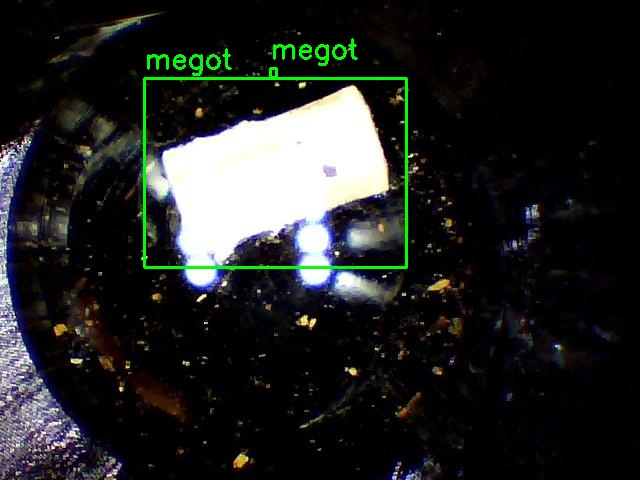megot: (144, 78, 406, 267), (270, 68, 276, 77)
